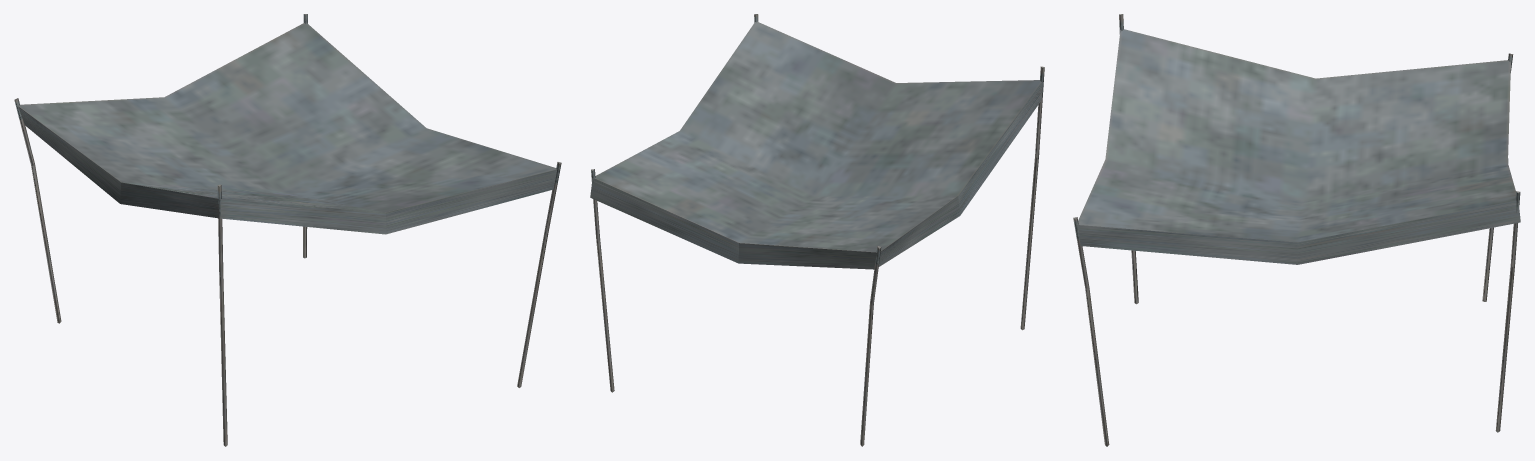
File: poi_all_tent_small_l2.fbx
The picture shows the model from 3 angles, left to right: view 1: azimuth 30°, elevation 25°; view 2: azimuth 150°, elevation 25°; view 3: azimuth 270°, elevation 25°; orthographic projection. The views are drawn at different scales.
Visible parts, largest first — view 1: mesh_node; view 2: mesh_node; view 3: mesh_node.
Part boxes in pixels (bbox=[...]): mesh_node: bbox=[14, 14, 561, 446]; mesh_node: bbox=[590, 14, 1044, 446]; mesh_node: bbox=[1073, 14, 1520, 446].
Bounding box in the file's own units: 4.85 × 3.69 × 5.3.
2 materials, 2 textured.
